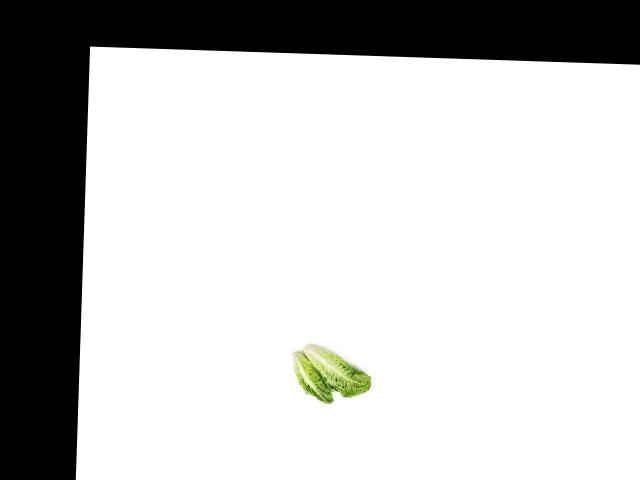lettuce: (307, 340, 373, 400)
